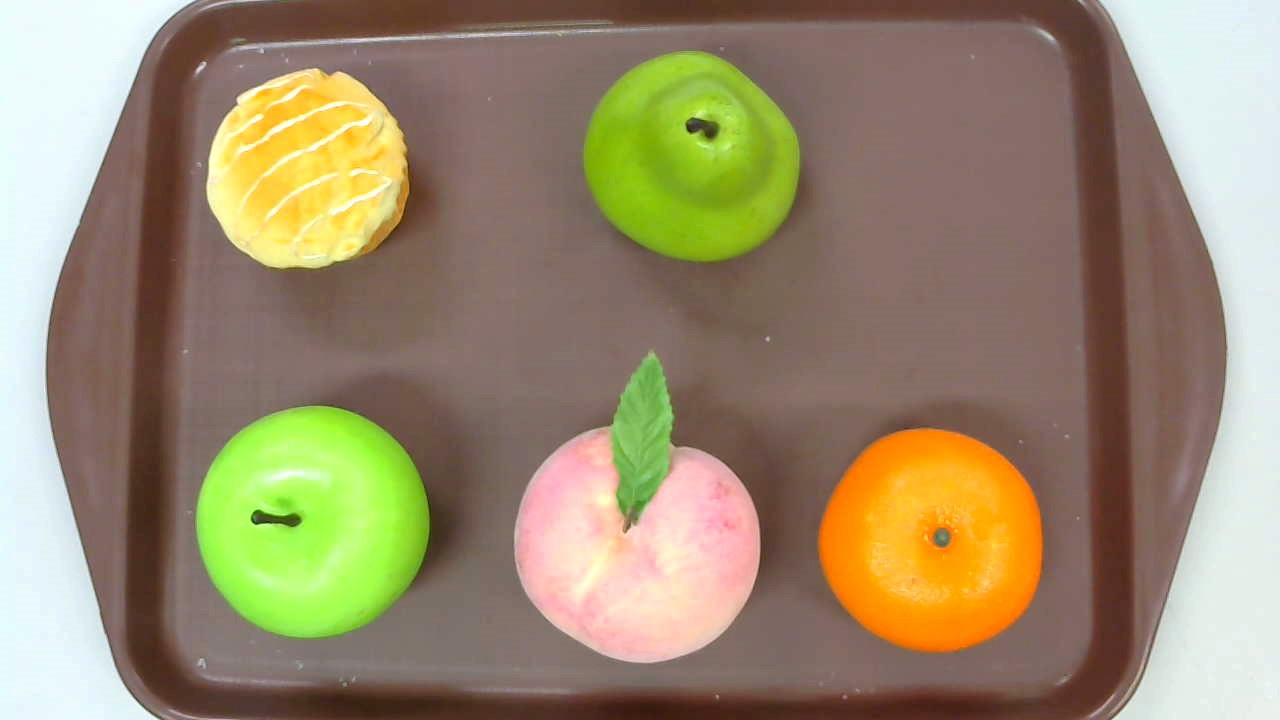cupcake: (205, 67, 410, 272)
green apple: (196, 404, 429, 638)
green pear: (581, 51, 799, 263)
orange: (817, 426, 1043, 652)
peaches: (513, 348, 760, 664)
